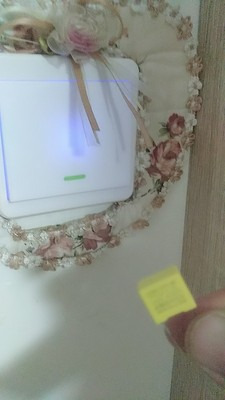switch: (7, 81, 138, 195)
